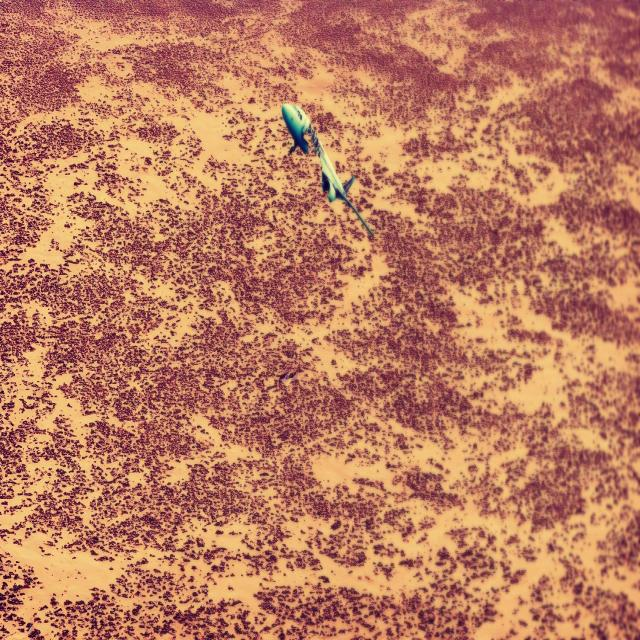airplane: (281, 101, 374, 239)
